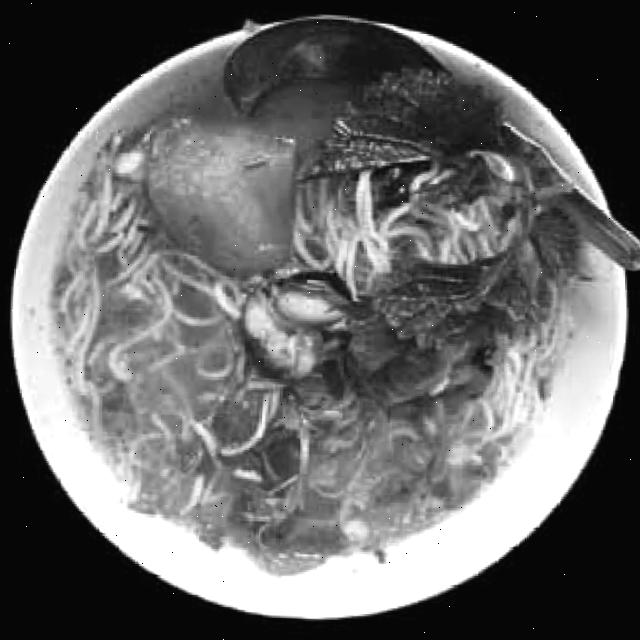面条主食: (3, 19, 640, 618)
